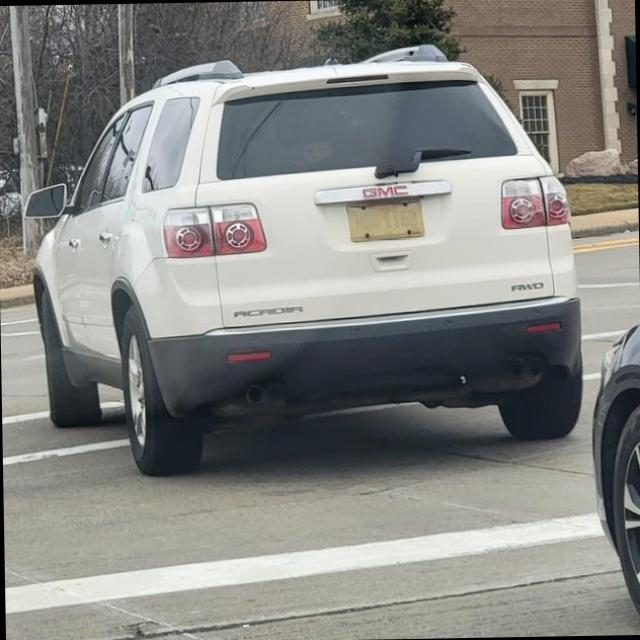LicensePlate: (345, 197, 424, 241)
